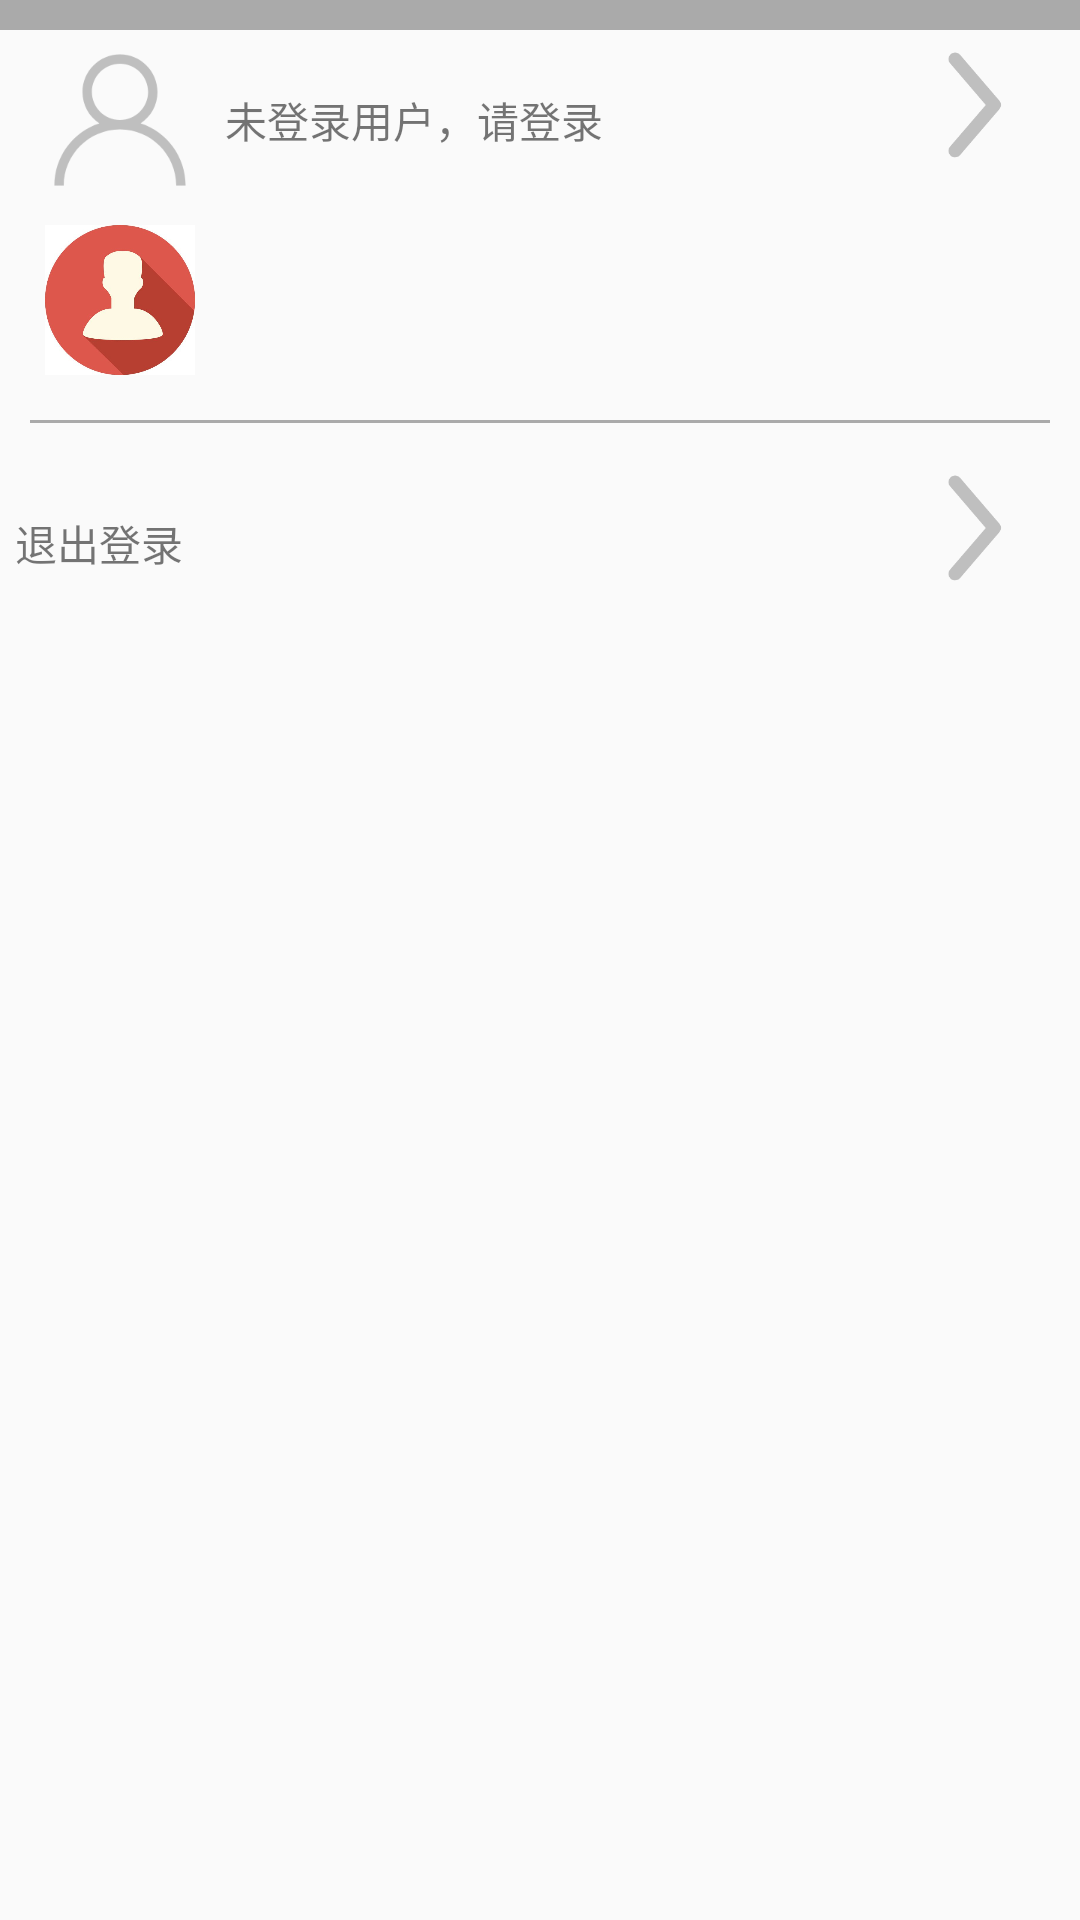

Point at icon controls on the screen. Image size 1080 × 1920, points as [x,y].
arrow right: [974,105], [974,527]
bottom me: [120,120]
